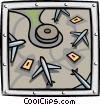aeroplane: (27, 55, 62, 87), (8, 31, 27, 63), (68, 25, 91, 49)
